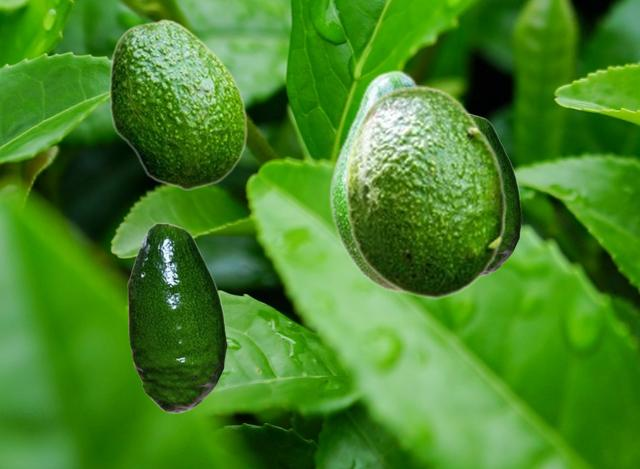avocado: (343, 85, 506, 298), (108, 18, 246, 189), (328, 69, 420, 292), (127, 222, 226, 412), (471, 113, 521, 275)
